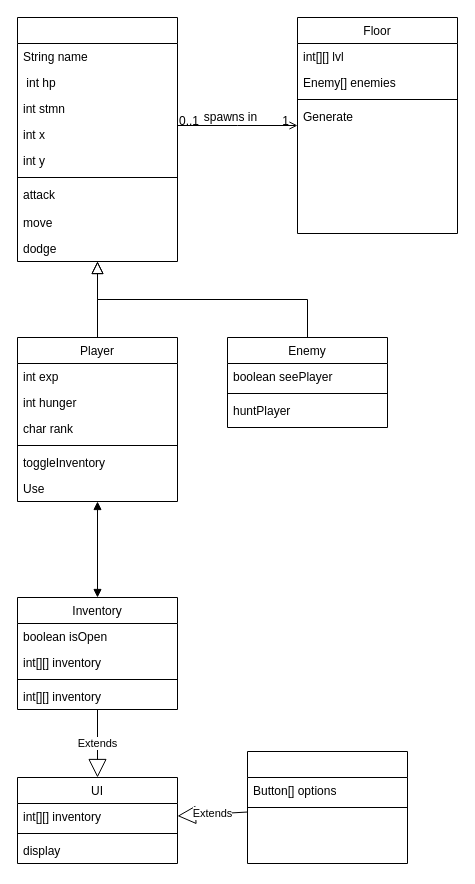
Image size: 475x884. Some labels were removed from this diagram. The box of each missing label's shape, as (x1, y1, x2, y2) in pixels:
Entity: (16, 16, 178, 262)
Menu: (246, 750, 408, 864)
